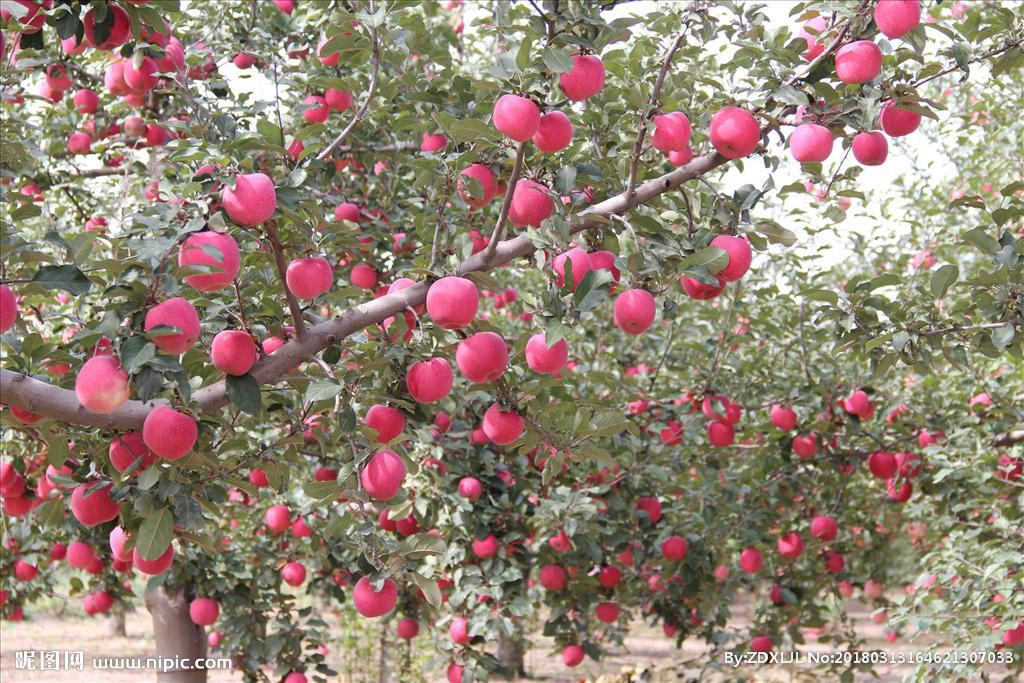apple: (175, 227, 241, 294), (72, 352, 135, 414), (141, 404, 198, 461), (220, 168, 276, 225), (143, 299, 200, 354), (708, 103, 762, 159), (425, 276, 478, 327), (358, 445, 407, 500), (456, 331, 507, 383), (68, 481, 125, 526), (707, 229, 754, 283), (558, 49, 606, 101), (209, 329, 257, 376), (405, 358, 452, 405), (833, 39, 881, 84), (286, 253, 334, 298), (352, 573, 397, 619), (614, 288, 656, 334), (649, 106, 690, 153), (483, 399, 524, 445), (874, 1, 920, 41), (458, 161, 498, 207), (790, 122, 833, 163), (679, 268, 727, 300), (853, 126, 888, 169), (124, 56, 160, 91), (104, 59, 128, 95), (279, 562, 306, 588)
